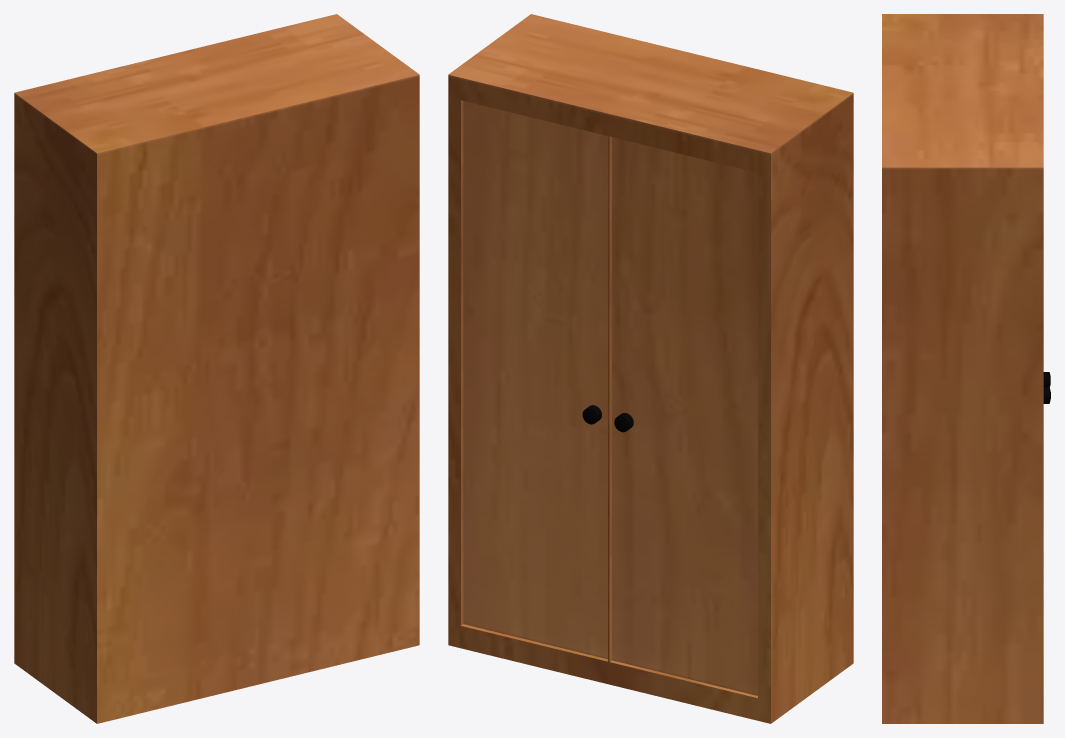
File: wooden cabnet.fbx
3 views of the same model, side by side, from view 1: azimuth 30°, elevation 25°; view 2: azimuth 150°, elevation 25°; view 3: azimuth 270°, elevation 25° (orthographic). The views are drawn at different scales.
Visible parts, largest first — view 1: wardrobe; view 2: wardrobe; view 3: wardrobe.
Boxes of the visible parts, x1,y1,x2,y2 form: wardrobe: (14, 14, 419, 723); wardrobe: (448, 14, 853, 723); wardrobe: (882, 14, 1050, 723).
Size of the model in its own units: 518 by 874 by 240.
Materials: 2 (1 with a texture image).
